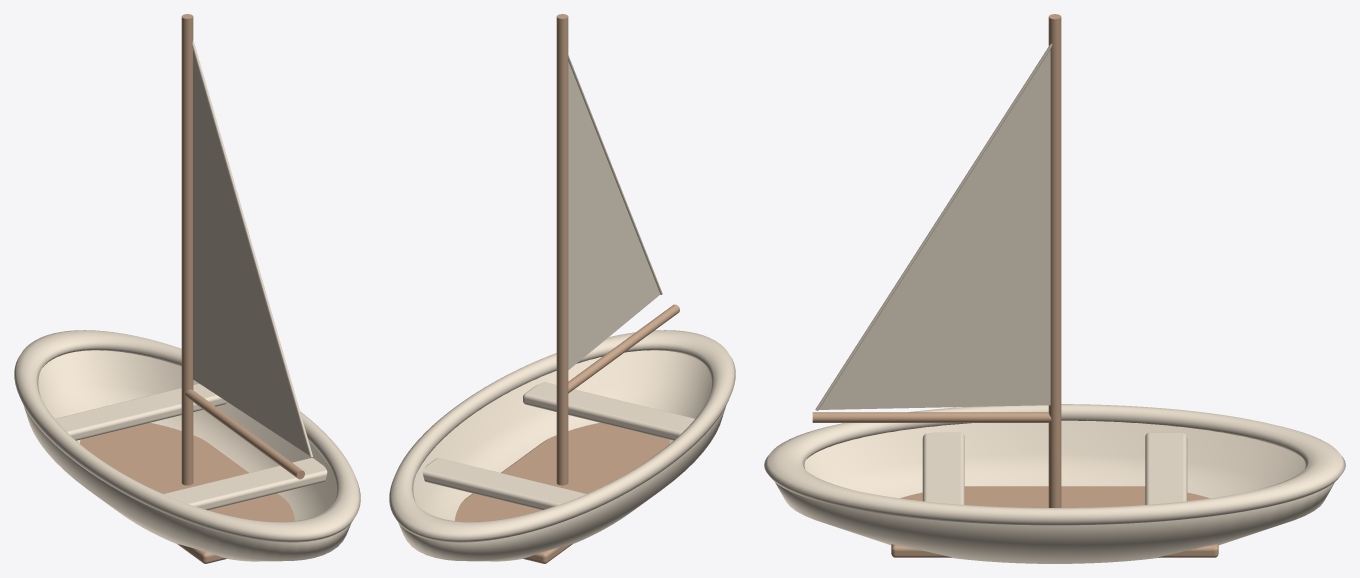
The model's file is sailCream.glb.
The picture shows the model from 3 angles, left to right: view 1: azimuth 30°, elevation 25°; view 2: azimuth 150°, elevation 25°; view 3: azimuth 270°, elevation 25°; orthographic projection. The views are drawn at different scales.
Parts seen in each view (by area): view 1: triangular sail, hollow hull, rounded rim, recessed cockpit floor, seat bench (×2), mast, sail seam, boom; view 2: hollow hull, rounded rim, triangular sail, recessed cockpit floor, seat bench (×2), mast, boom, sail seam; view 3: triangular sail, hollow hull, rounded rim, mast, seat bench (×2), recessed cockpit floor, boom, sail seam.
Boxes of the visible parts, left/top/right/bottom form: triangular sail: left=193, top=50, right=309, bottom=455; hollow hull: left=24, top=350, right=351, bottom=561; rounded rim: left=14, top=330, right=360, bottom=542; recessed cockpit floor: left=80, top=423, right=294, bottom=563; seat bench (×2): left=55, top=383, right=327, bottom=510; mast: left=181, top=14, right=193, bottom=485; sail seam: left=192, top=40, right=312, bottom=457; boom: left=185, top=389, right=304, bottom=479; hollow hull: left=398, top=350, right=725, bottom=561; rounded rim: left=389, top=330, right=735, bottom=542; triangular sail: left=568, top=62, right=660, bottom=369; recessed cockpit floor: left=455, top=423, right=669, bottom=563; seat bench (×2): left=422, top=382, right=694, bottom=510; mast: left=556, top=14, right=568, bottom=485; boom: left=568, top=304, right=679, bottom=393; sail seam: left=568, top=55, right=662, bottom=294; triangular sail: left=819, top=50, right=1050, bottom=409; hollow hull: left=775, top=420, right=1334, bottom=563; rounded rim: left=764, top=404, right=1345, bottom=525; mast: left=1048, top=14, right=1061, bottom=507; seat bench (×2): left=922, top=432, right=1187, bottom=504; recessed cockpit floor: left=891, top=486, right=1218, bottom=557; boom: left=812, top=412, right=1051, bottom=422; sail seam: left=815, top=43, right=1052, bottom=410.
Size of the model in its own units: 2.02 by 4.46 by 4.44.
